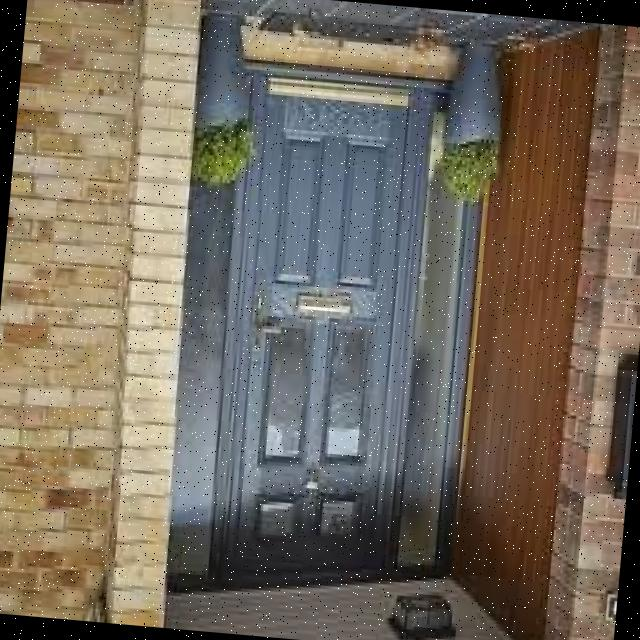Door: (218, 70, 435, 576)
